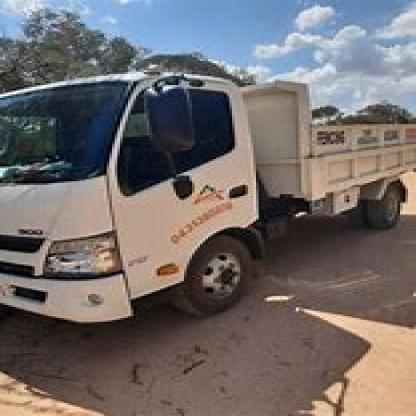dump_truck: (6, 60, 414, 326)
